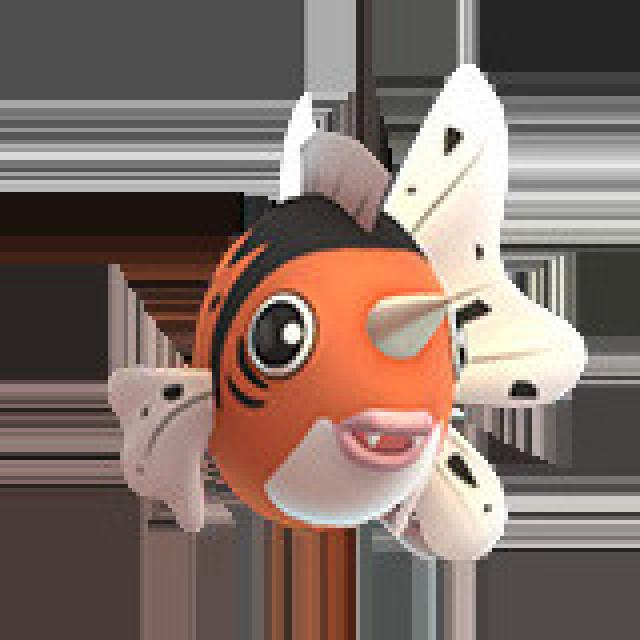Seaking: (166, 106, 509, 537)
